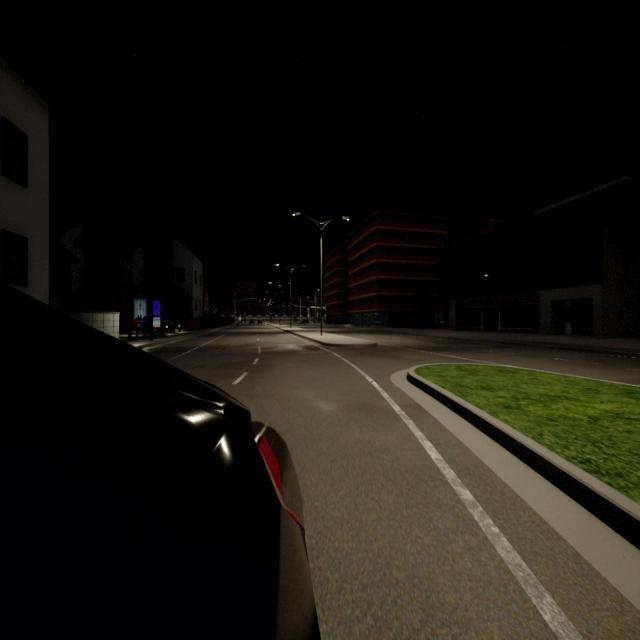Vehicle: (0, 296, 315, 640), (302, 319, 308, 323), (258, 320, 262, 324), (250, 320, 253, 324)
